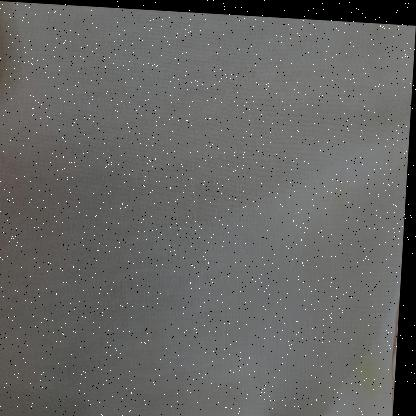spot: (320, 176, 354, 209), (359, 350, 381, 384)
